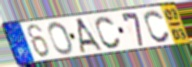6: (26, 22, 51, 59)
7: (120, 12, 145, 48)
A: (77, 17, 105, 54)
C: (143, 9, 172, 44), (94, 15, 123, 50)
O: (47, 20, 75, 56)
